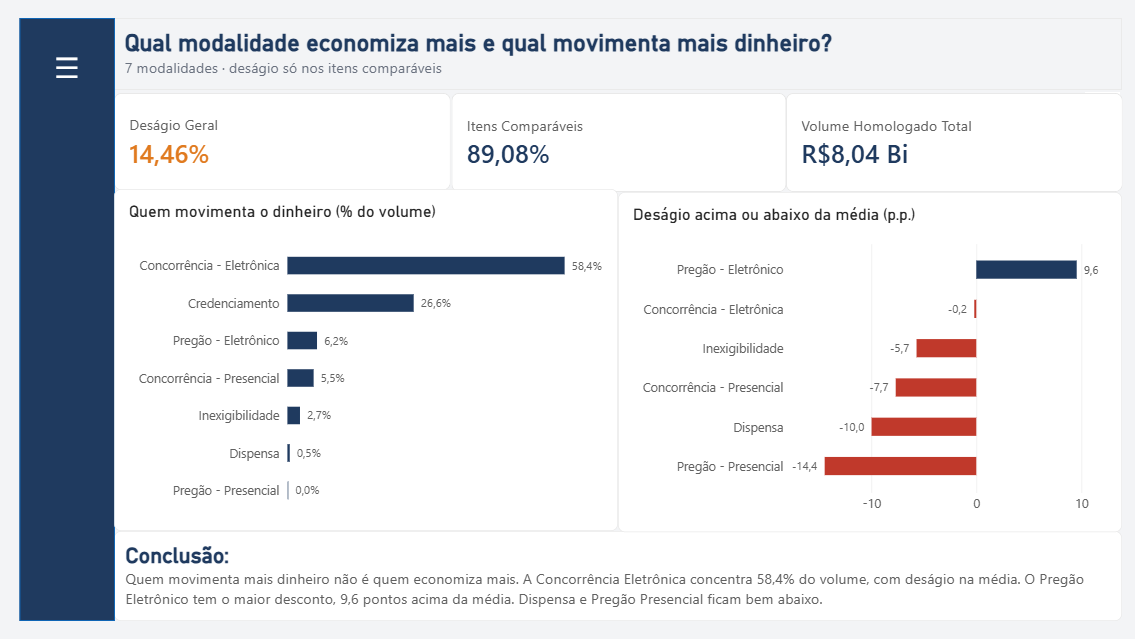

What the dashboard file says about the page in this screenshot:
{"tool":"powerbi","page":{"name":"3 Modalidades","canvas":[1280,720],"ordinal":3},"visuals":[{"type":"textbox","title":"Qual modalidade economiza mais e qual movimenta mais dinheiro?","box":[134,24,1120,80],"z":0},{"type":"cardVisual","fields":{"Data":["_Medidas.Economia Pct"]},"box":[134,106,374,108],"z":1000},{"type":"cardVisual","fields":{"Data":["_Medidas.Pct Itens Comparaveis"]},"box":[508,106,372,110],"z":2000},{"type":"textbox","title":"  Conclusão:","box":[134,594,1120,100],"z":3000},{"type":"shape","box":[28,24,106,670],"z":4000},{"type":"barChart","title":"Quem movimenta o dinheiro (% do volume)","fields":{"Category":["dim_modalidade.nome_modalidade"],"Y":["_Medidas.Participacao Volume Pct"]},"box":[134,214,560,380],"z":5000},{"type":"cardVisual","fields":{"Data":["_Medidas.Volume Homologado"]},"box":[880,106,374,110],"z":6000},{"type":"barChart","title":"Deságio acima ou abaixo da média (p.p.)","fields":{"Category":["dim_modalidade.nome_modalidade"],"Y":["_Medidas.Desagio vs Media Geral pp"]},"box":[694,216,560,378],"z":7000},{"type":"actionButton","title":"Botão menu","box":[27.7,24.6,104.6,104.6],"z":8000}]}

Visuals, with their boxes in screenshot pixels (x1, y1, x2, y2), scaled from the page's 1280x720 canvas onto the 1135x639 screenshot:
"Qual modalidade economiza mais e qual movimenta mais dinheiro?" textbox: [left=119, top=21, right=1112, bottom=92]
cardVisual - _Medidas.Economia Pct: [left=119, top=94, right=450, bottom=190]
cardVisual - _Medidas.Pct Itens Comparaveis: [left=450, top=94, right=780, bottom=192]
"  Conclusão:" textbox: [left=119, top=527, right=1112, bottom=616]
shape: [left=25, top=21, right=119, bottom=616]
"Quem movimenta o dinheiro (% do volume)" barChart: [left=119, top=190, right=615, bottom=527]
cardVisual - _Medidas.Volume Homologado: [left=780, top=94, right=1112, bottom=192]
"Deságio acima ou abaixo da média (p.p.)" barChart: [left=615, top=192, right=1112, bottom=527]
"Botão menu" actionButton: [left=25, top=22, right=117, bottom=115]
